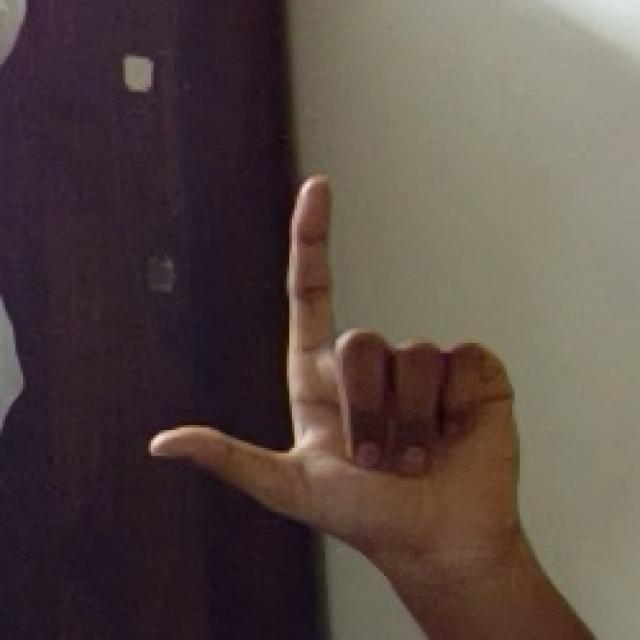Alphabet-L: (160, 165, 556, 578)
